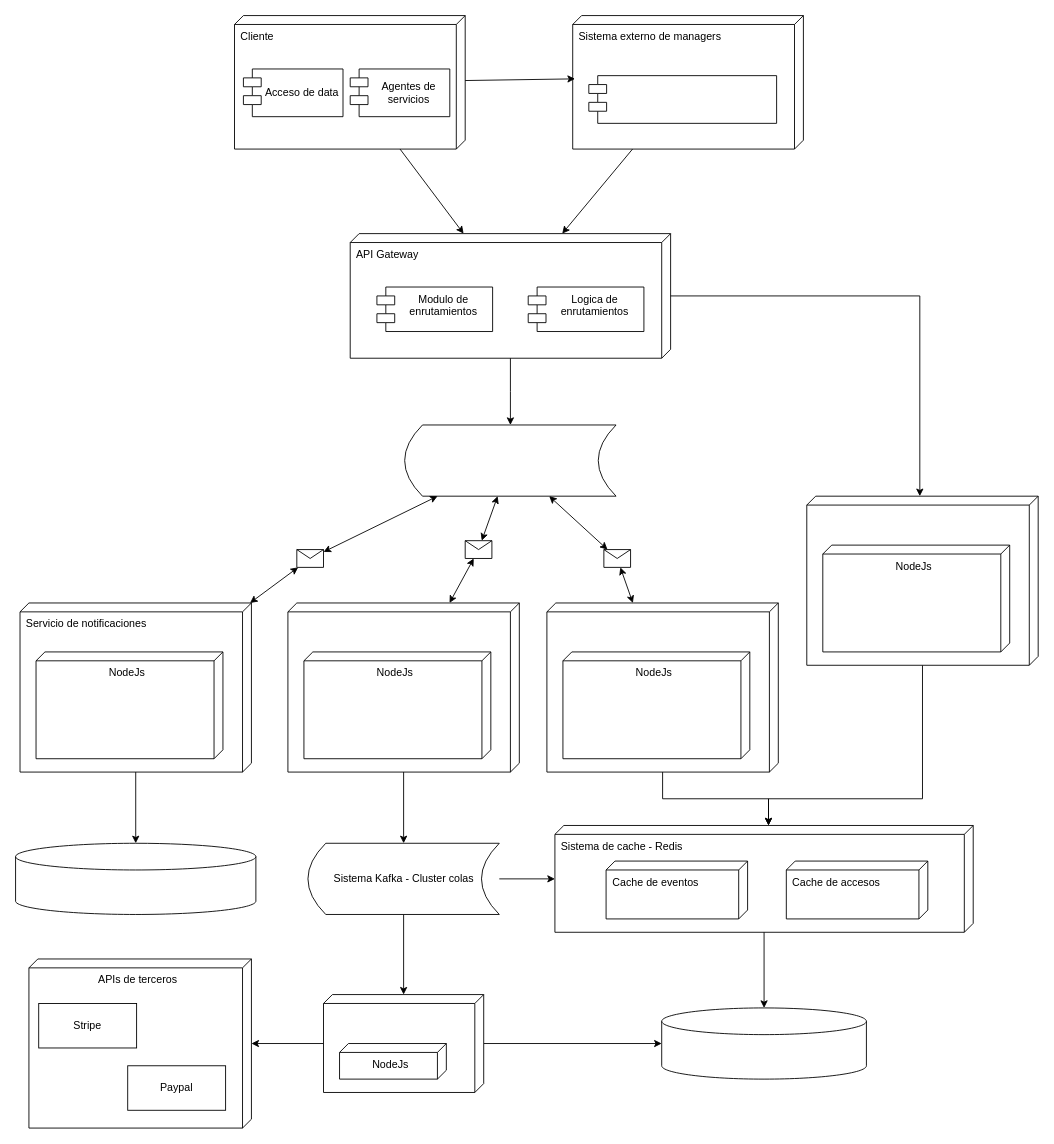
Image size: 1054x1144. Some labels were removed from this diagram. The centre of each missing label's shape, as x and y in pixels:
"Base de datos NoSQL" belongs at pixel 135 878.
"Base de datos SQL" belongs at pixel 763 1043.
"Consumidor de servicio" belongs at pixel 682 99.
"Servicio de accesos" belongs at pixel 922 580.
"Servicio de compras" belongs at pixel 403 687.
"Servicio de eventos(conciertos)" belongs at pixel 662 687.
"Servicio de pago" belongs at pixel 403 1043.
"Sistema Kafka - Cluster Pub-Sub" belongs at pixel 510 460.
